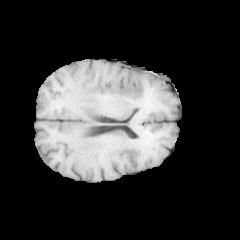glioma: (90, 80, 137, 100)
